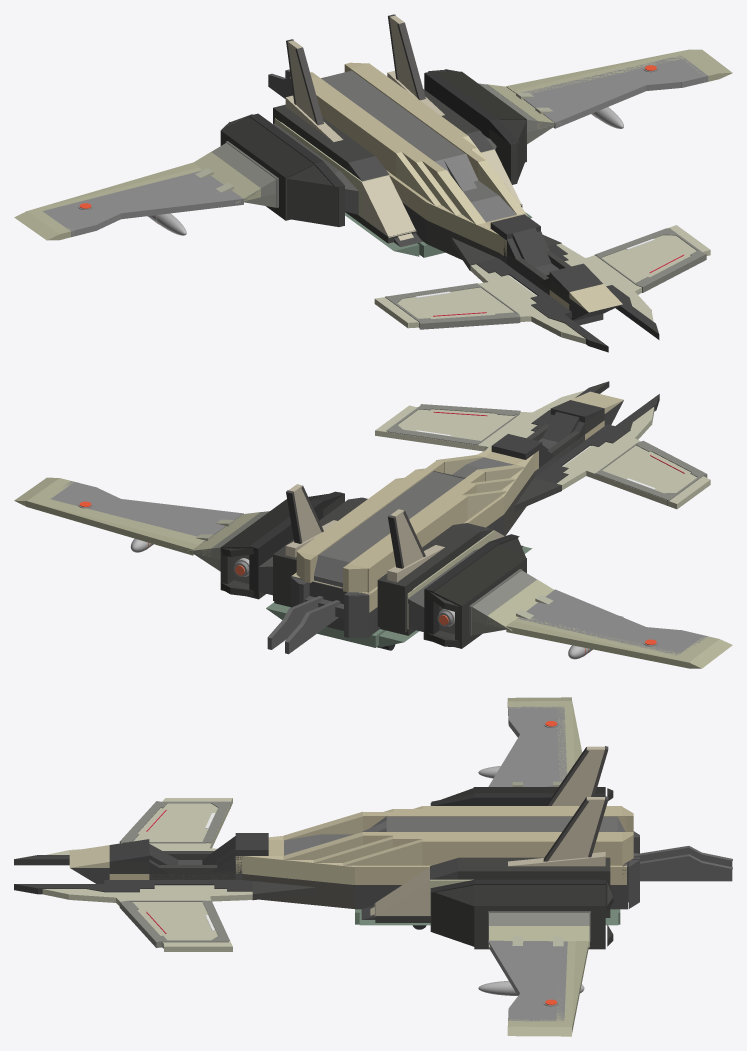
Rendered from 战斗机2.gltf.
The picture shows the model from 3 angles, top to bottom: view 1: azimuth 30°, elevation 25°; view 2: azimuth 150°, elevation 25°; view 3: azimuth 270°, elevation 25°; orthographic projection.
Visible parts, largest first — view 1: box (×33), wedge (×30); view 2: box (×35), wedge (×28); view 3: box (×27), wedge (×26).
Part boxes in pixels (<box>): box (×33): <box>41,22,710,337</box>; wedge (×30): <box>14,22,707,327</box>; box (×35): <box>27,402,719,662</box>; wedge (×28): <box>25,391,732,668</box>; box (×27): <box>69,706,732,1021</box>; wedge (×26): <box>69,728,605,1036</box>.
Size of the model in its own units: 12.1 by 2.55 by 10.84.
